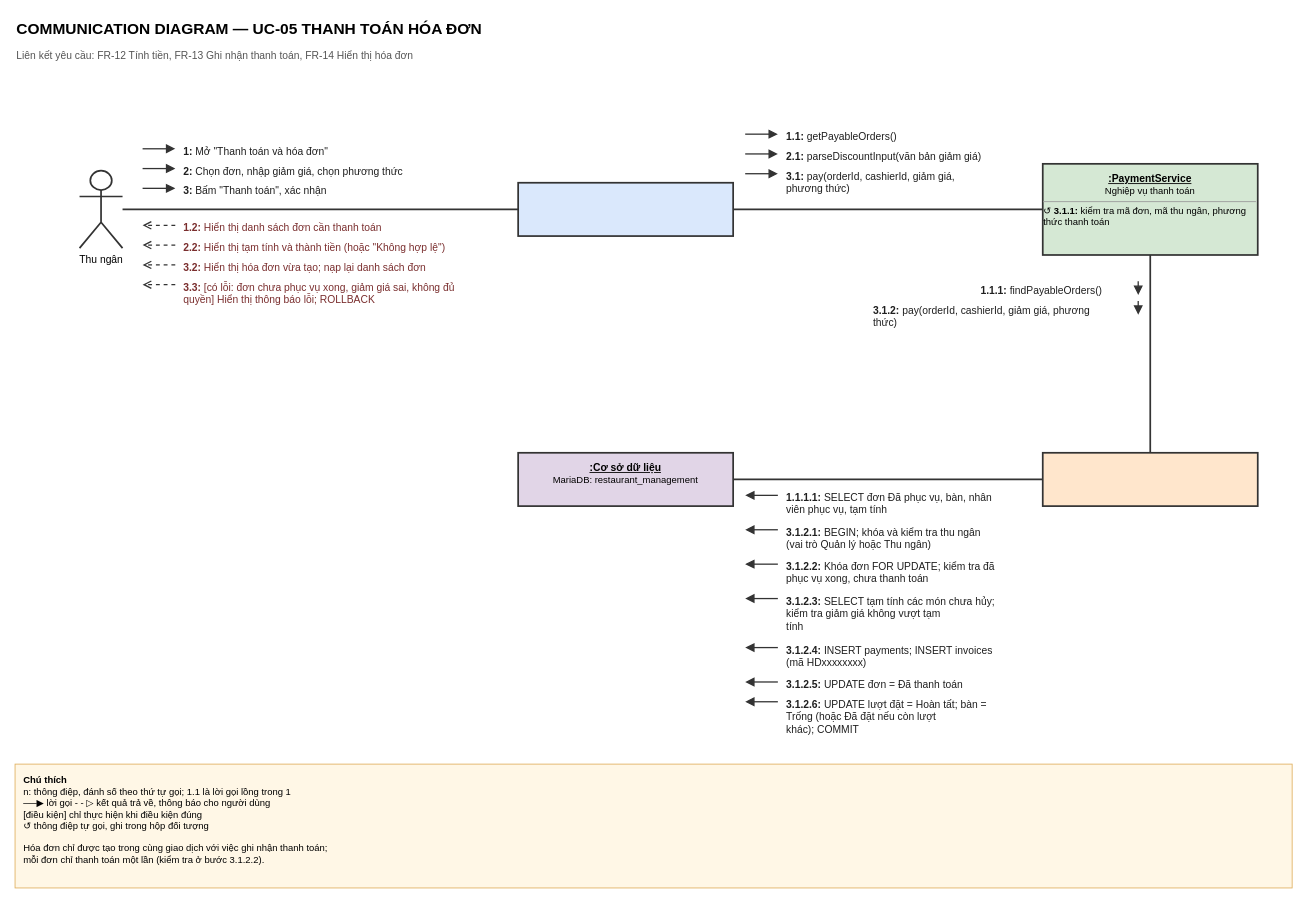
This 1307x903 diagram has some shape labels left out. Each missing label, with the centre of its shape:
":PaymentDAO Truy cập dữ liệu (một giao dịch)" goes at pixel 1149 479.
":PaymentFrame Màn hình thanh toán" goes at pixel 625 208.
